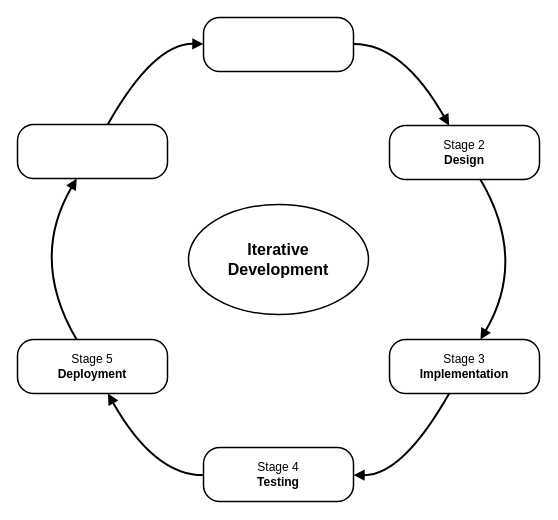
Image size: 558x520. Some labels were removed from this diagram. Here are the shapes that lost their labels. From the top down, the box of each, then its label:
(202, 16, 354, 72): Stage 1 Planning
(16, 123, 168, 179): Stage 6 Evaluation
